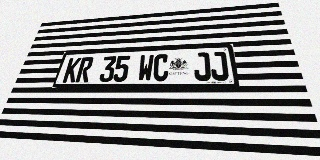3: (99, 56, 117, 82)
5: (113, 55, 131, 82)
C: (153, 54, 169, 81)
J: (210, 51, 229, 81), (193, 52, 211, 81)
K: (62, 57, 82, 83)
R: (75, 57, 94, 82)
W: (137, 54, 154, 82)
